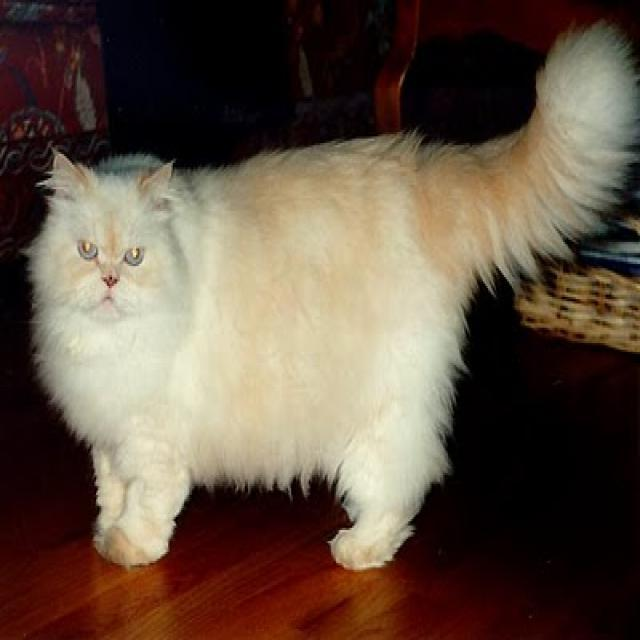Persian: (28, 145, 188, 339)
